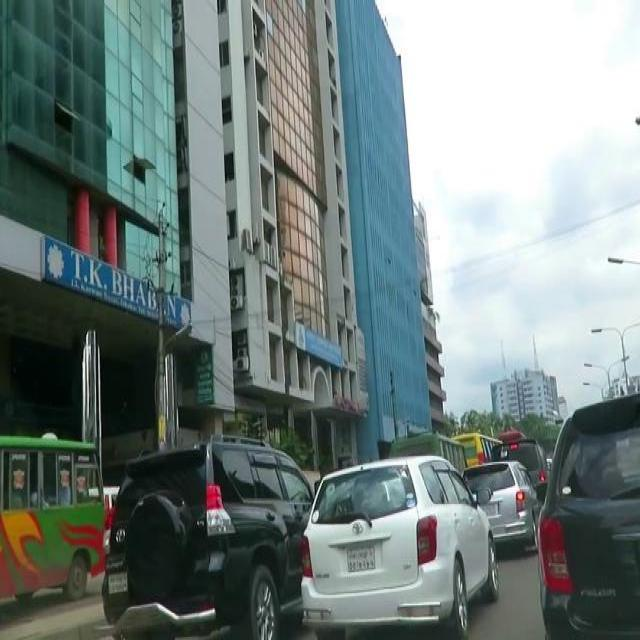vehicle: (99, 429, 314, 637), (300, 451, 500, 633), (536, 388, 638, 630), (1, 425, 106, 614), (461, 456, 543, 556), (490, 435, 550, 504), (390, 431, 468, 470), (453, 430, 500, 464)
